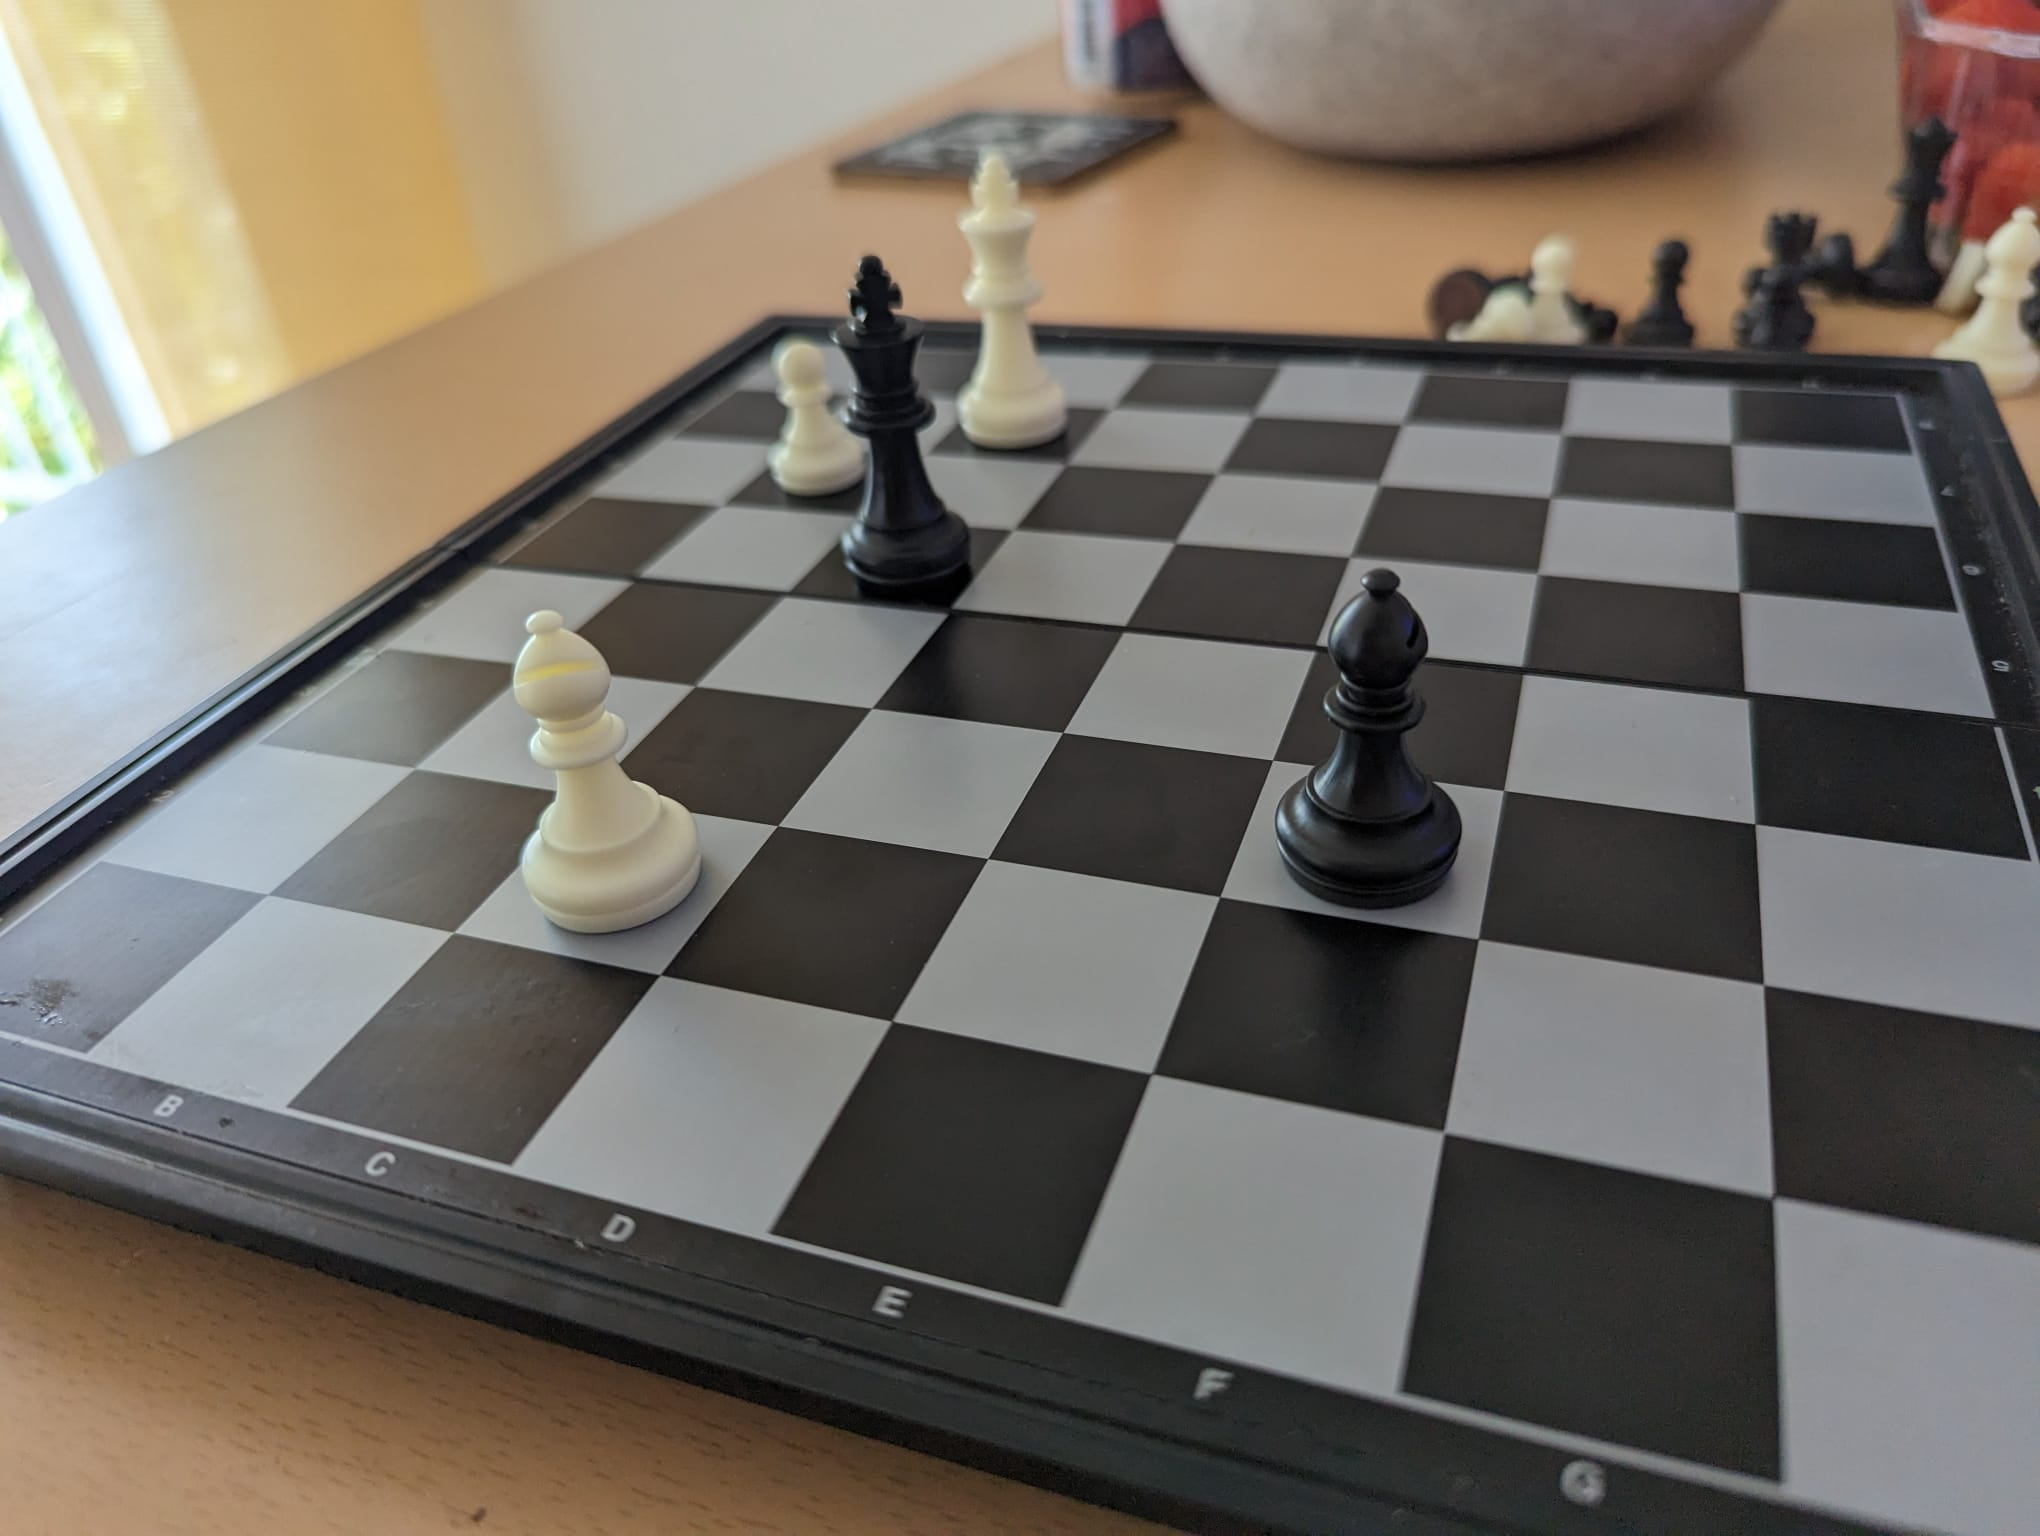BB: (1271, 565, 1464, 908)
BK: (837, 252, 971, 599)
WB: (510, 608, 703, 929)
WK: (953, 152, 1074, 450)
WP: (769, 350, 858, 487)
